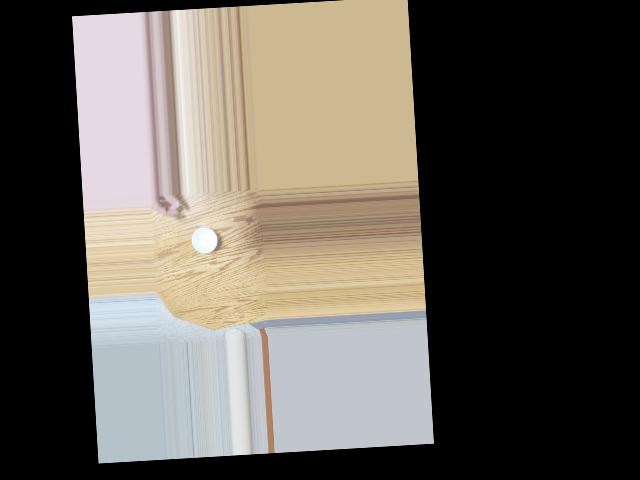cotage: (187, 221, 218, 256)
